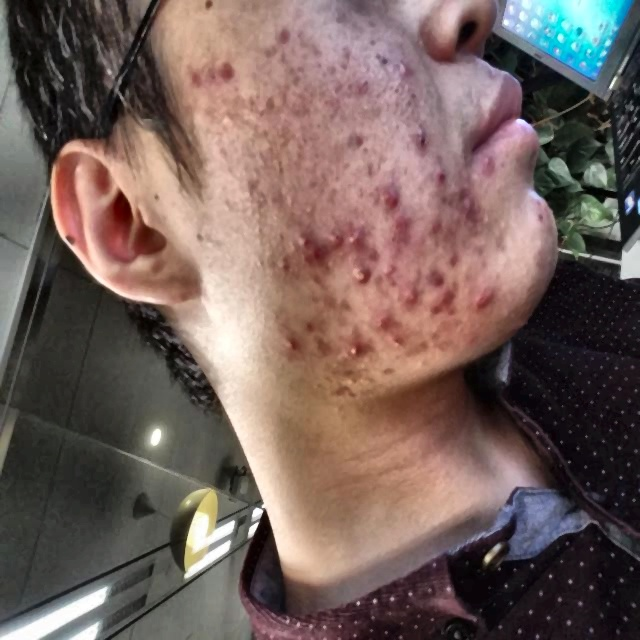papule: (178, 57, 218, 117), (407, 104, 439, 173), (269, 11, 301, 63), (335, 330, 370, 368), (288, 223, 314, 266), (496, 220, 526, 256), (378, 177, 404, 213), (327, 368, 352, 405), (306, 304, 326, 346), (211, 53, 237, 85), (385, 210, 408, 246), (454, 199, 486, 223), (530, 188, 549, 228), (475, 287, 503, 314), (322, 296, 353, 320), (385, 330, 408, 362), (308, 242, 329, 276), (270, 251, 292, 283), (436, 246, 467, 268), (434, 287, 456, 317), (476, 235, 493, 273), (406, 278, 426, 309), (345, 262, 367, 290), (396, 63, 417, 92), (329, 222, 347, 255), (283, 328, 301, 359), (432, 163, 449, 190), (375, 251, 392, 278), (428, 325, 447, 349), (455, 329, 474, 351), (413, 338, 432, 360), (383, 304, 395, 336), (315, 340, 333, 360), (348, 228, 362, 251), (428, 212, 442, 232), (366, 313, 380, 332), (434, 266, 444, 292), (477, 156, 488, 174)
